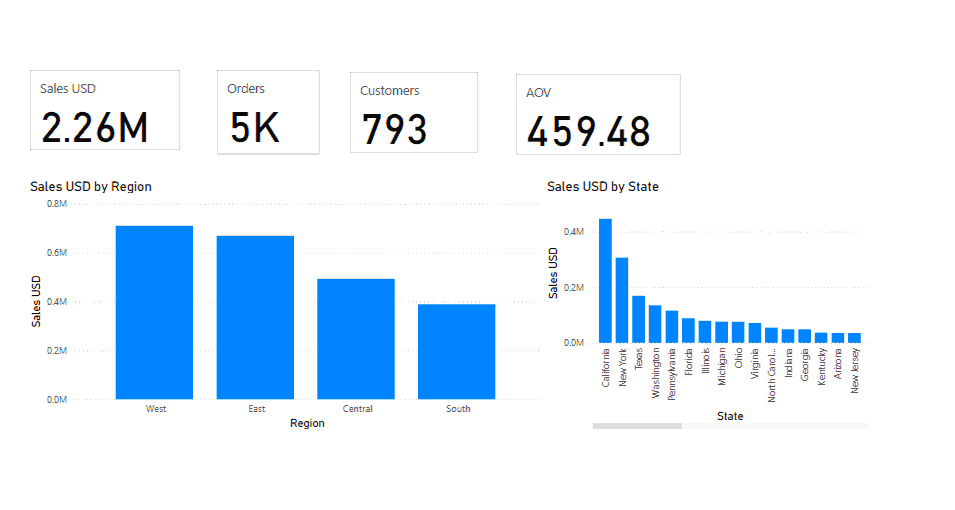

This screenshot's page, from the dashboard's own definition file:
{"tool":"powerbi","page":{"name":"Page 4","canvas":[1280,720],"ordinal":3},"visuals":[{"type":"cardVisual","fields":{"Data":["FactsSales.Sales USD"]},"box":[42.1,113.5,202.7,112.2],"z":0},{"type":"cardVisual","fields":{"Data":["FactsSales.Orders"]},"box":[280.5,113.5,141.5,118.6],"z":1},{"type":"cardVisual","fields":{"Data":["FactsSales.Customers"]},"box":[450,116,174.7,113.5],"z":2},{"type":"cardVisual","fields":{"Data":["DimCustomer.AOV"]},"box":[661.7,118.6,220.6,113.5],"z":3},{"type":"columnChart","fields":{"Category":["train.Region"],"Y":["FactsSales.Sales USD"]},"box":[42.1,256.3,659.1,325.1],"z":4},{"type":"columnChart","fields":{"Category":["train.State"],"Y":["FactsSales.Sales USD"]},"box":[701.2,256.3,419.4,325.1],"z":5}]}

Visuals, with their boxes on the page's 1280x720 design canvas (x1, y1, x2, y2). These are canvas units, not pixel positions in the 955x510 screenshot, which may show the page scaled, cropped or inside an application window:
cardVisual - FactsSales.Sales USD: select_region(42, 114, 245, 226)
cardVisual - FactsSales.Orders: select_region(280, 114, 422, 232)
cardVisual - FactsSales.Customers: select_region(450, 116, 625, 230)
cardVisual - DimCustomer.AOV: select_region(662, 119, 882, 232)
columnChart - train.Region x FactsSales.Sales USD: select_region(42, 256, 701, 581)
columnChart - train.State x FactsSales.Sales USD: select_region(701, 256, 1121, 581)
